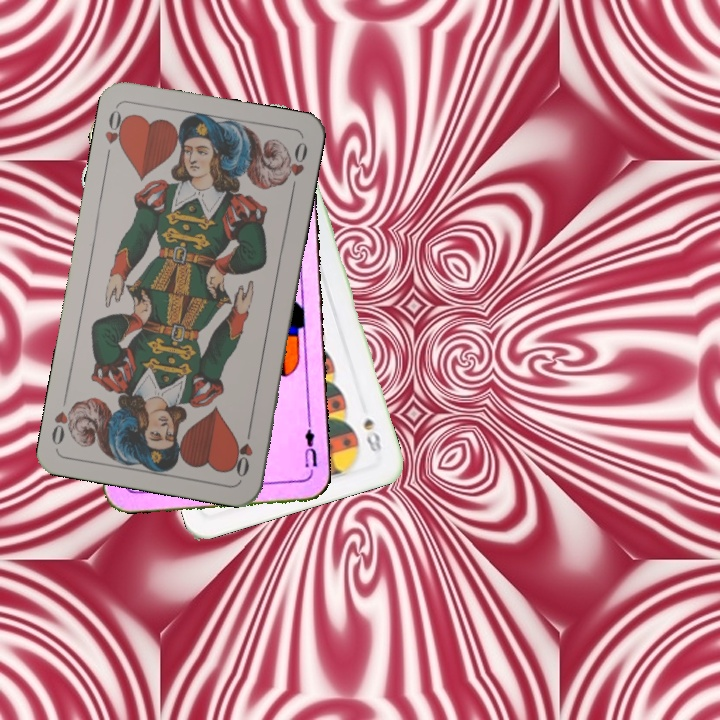EU: (295, 421, 320, 480)
HO: (101, 105, 131, 163), (230, 422, 256, 480)
S8: (359, 413, 384, 456)
